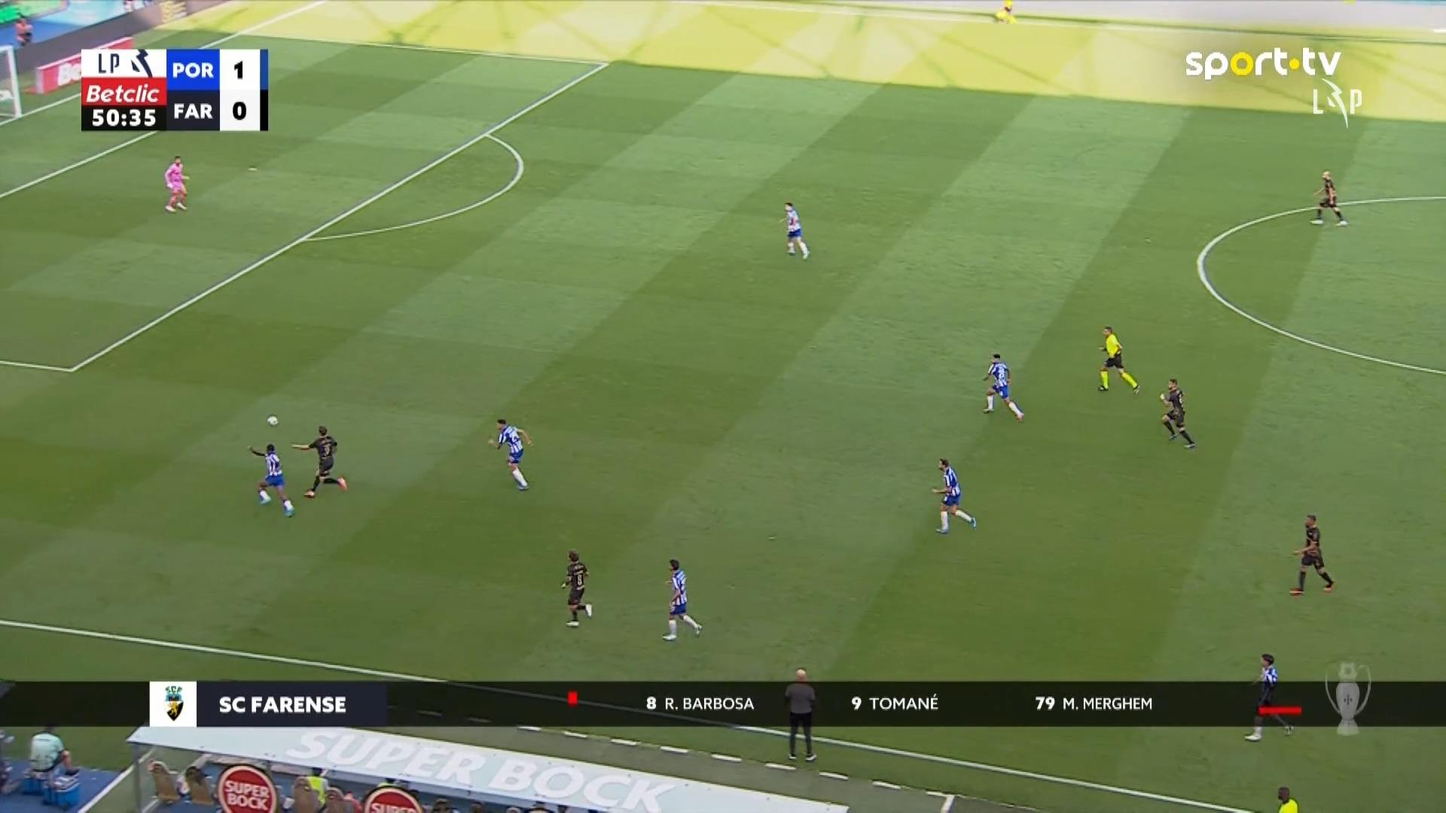ball: (266, 415, 278, 427)
goalkeeper: (163, 155, 190, 212)
player: (1243, 653, 1292, 741), (291, 425, 348, 498), (1289, 513, 1335, 595), (931, 457, 977, 534), (247, 443, 294, 517), (661, 558, 702, 641), (487, 417, 532, 491), (981, 352, 1024, 422), (1158, 376, 1196, 449), (560, 549, 593, 627), (1310, 169, 1348, 226), (781, 200, 810, 260)
referee: (1096, 324, 1140, 394), (993, 0, 1015, 24)
